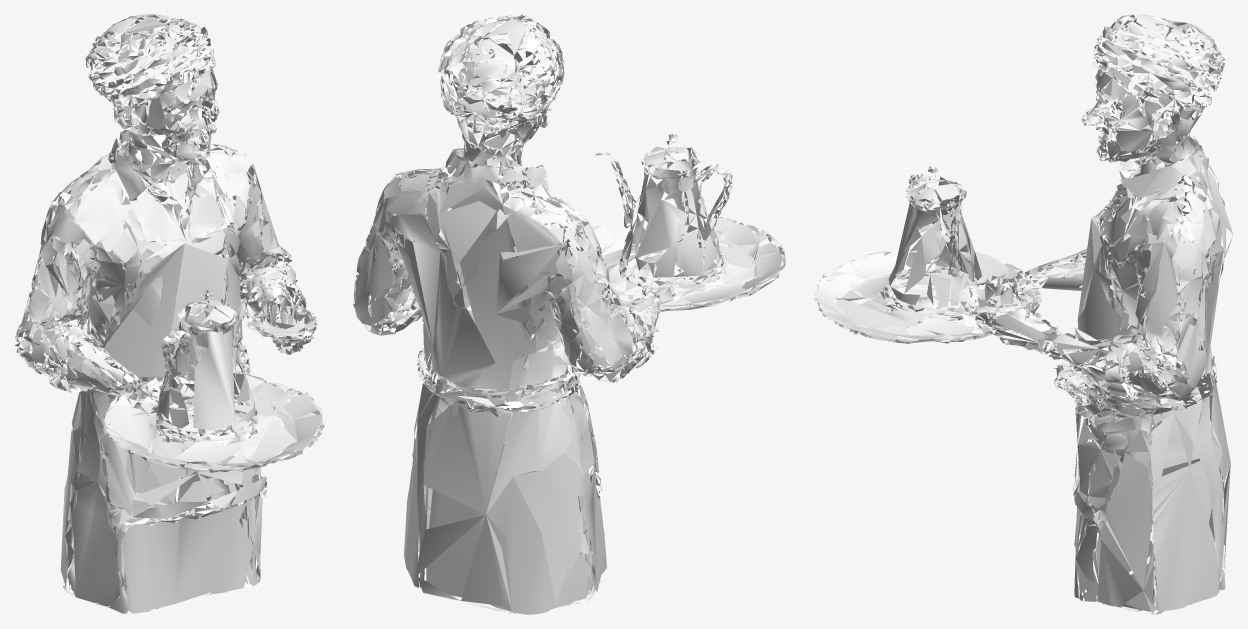
The model's file is beach-chaiwala.glb.
3 views of the same model, side by side, from view 1: azimuth 30°, elevation 25°; view 2: azimuth 150°, elevation 25°; view 3: azimuth 270°, elevation 25° (orthographic).
Visible parts, largest first — view 1: model; view 2: model; view 3: model.
Part boxes in pixels (x1,y1,x2,y2): model: (14, 14, 324, 614); model: (353, 14, 785, 614); model: (814, 14, 1233, 614).
Size of the model in its own units: 1.05 by 1.9 by 1.31.
1 material, 1 textured.
